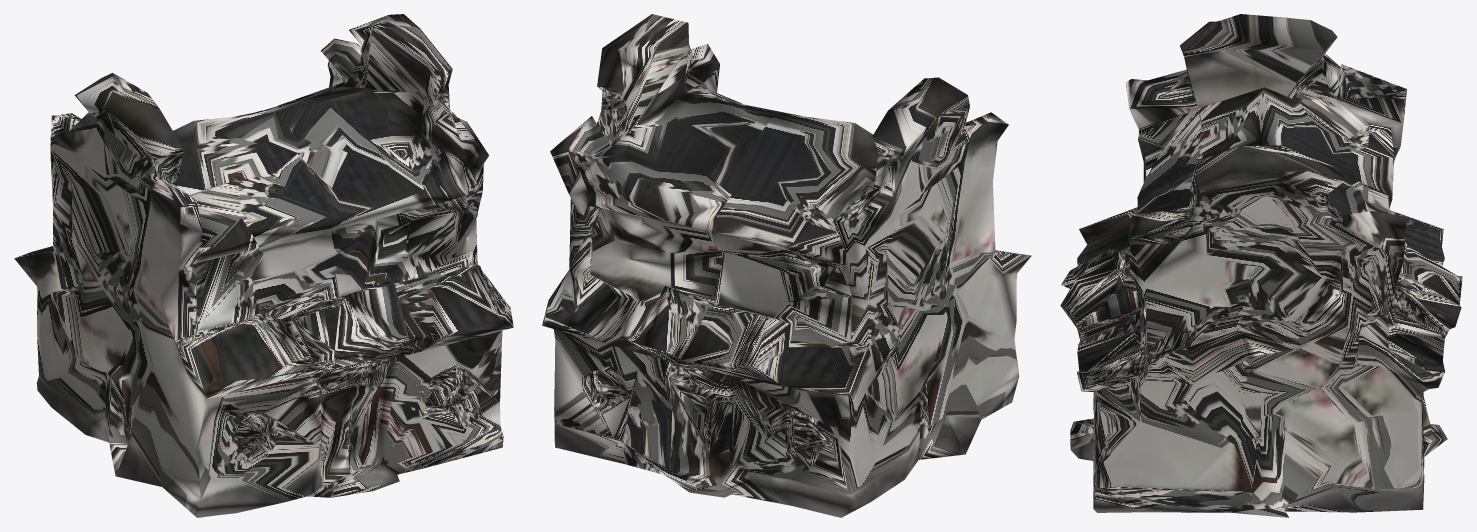
The model's file is h_cloud_far.glb.
3 renders of one model, left to right at view 1: azimuth 30°, elevation 25°; view 2: azimuth 150°, elevation 25°; view 3: azimuth 270°, elevation 25°, orthographic.
Visible parts, largest first — view 1: tripo_node_4f4b5a80-af94-4ffd-a2ba-a9bdd4370ff0; view 2: tripo_node_4f4b5a80-af94-4ffd-a2ba-a9bdd4370ff0; view 3: tripo_node_4f4b5a80-af94-4ffd-a2ba-a9bdd4370ff0.
Part boxes in pixels (x1,y1,x2,y2): tripo_node_4f4b5a80-af94-4ffd-a2ba-a9bdd4370ff0: [14, 14, 513, 517]; tripo_node_4f4b5a80-af94-4ffd-a2ba-a9bdd4370ff0: [542, 14, 1031, 517]; tripo_node_4f4b5a80-af94-4ffd-a2ba-a9bdd4370ff0: [1060, 14, 1462, 517].
Bounding box in the file's own units: 0.9349 × 0.9893 × 0.9895.
Materials: 1 (1 with a texture image).
